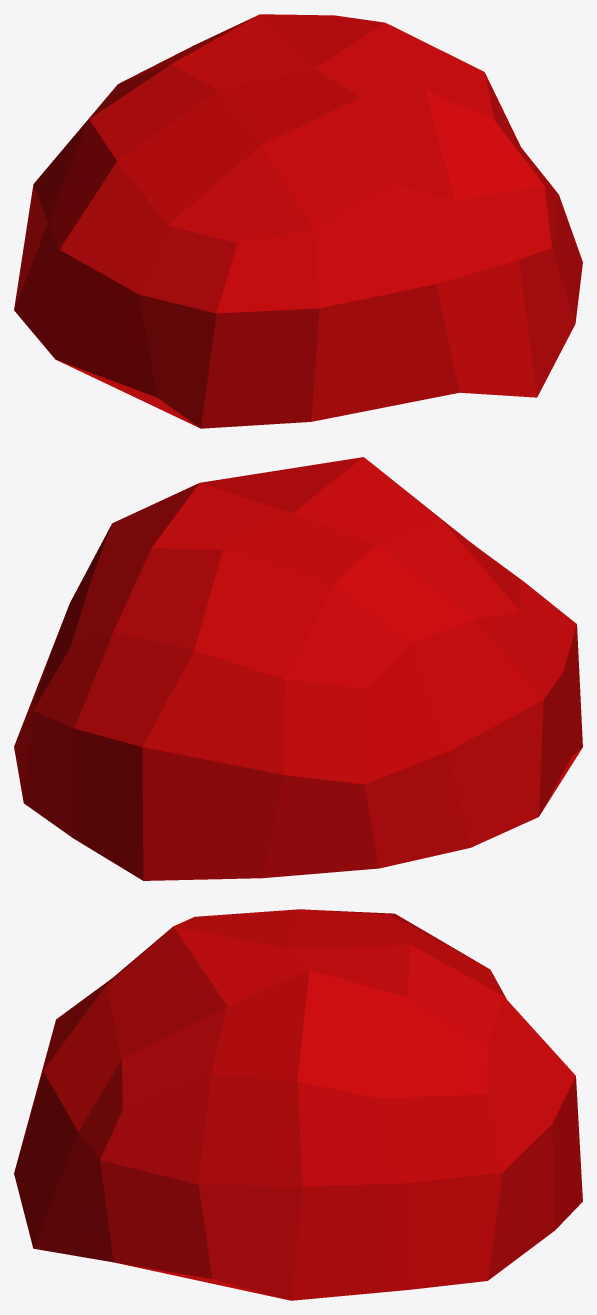
File: stone.glb
The picture shows the model from 3 angles, top to bottom: view 1: azimuth 30°, elevation 25°; view 2: azimuth 150°, elevation 25°; view 3: azimuth 270°, elevation 25°; orthographic projection.
Parts seen in each view (by area): view 1: Cube; view 2: Cube; view 3: Cube.
Boxes of the visible parts, x1,y1,x2,y2 form: Cube: (14, 14, 582, 428); Cube: (14, 457, 582, 880); Cube: (14, 909, 582, 1300).
Bounding box in the file's own units: 1.68 × 0.9156 × 1.73.
